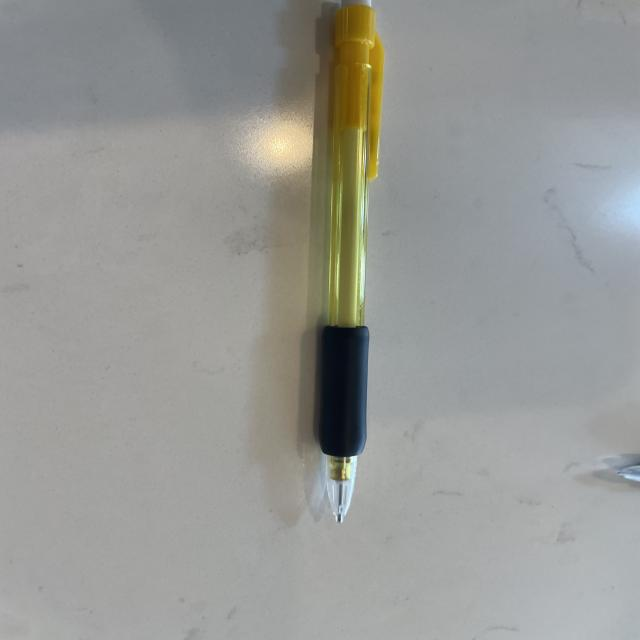mechanical-pencils: (323, 1, 388, 520)
